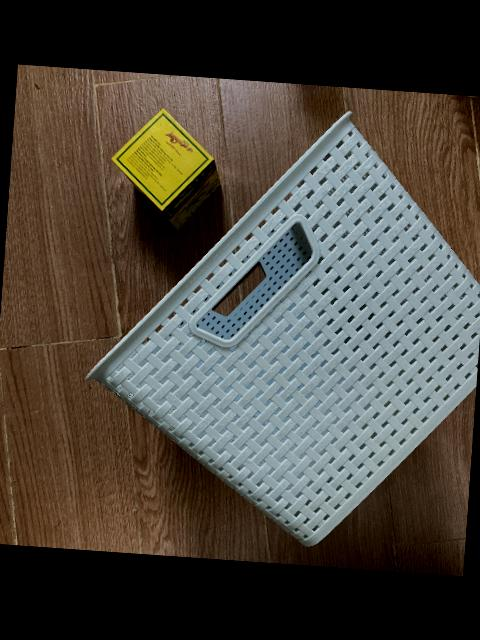cart: (81, 109, 480, 546)
luong_kho: (109, 108, 219, 230)
